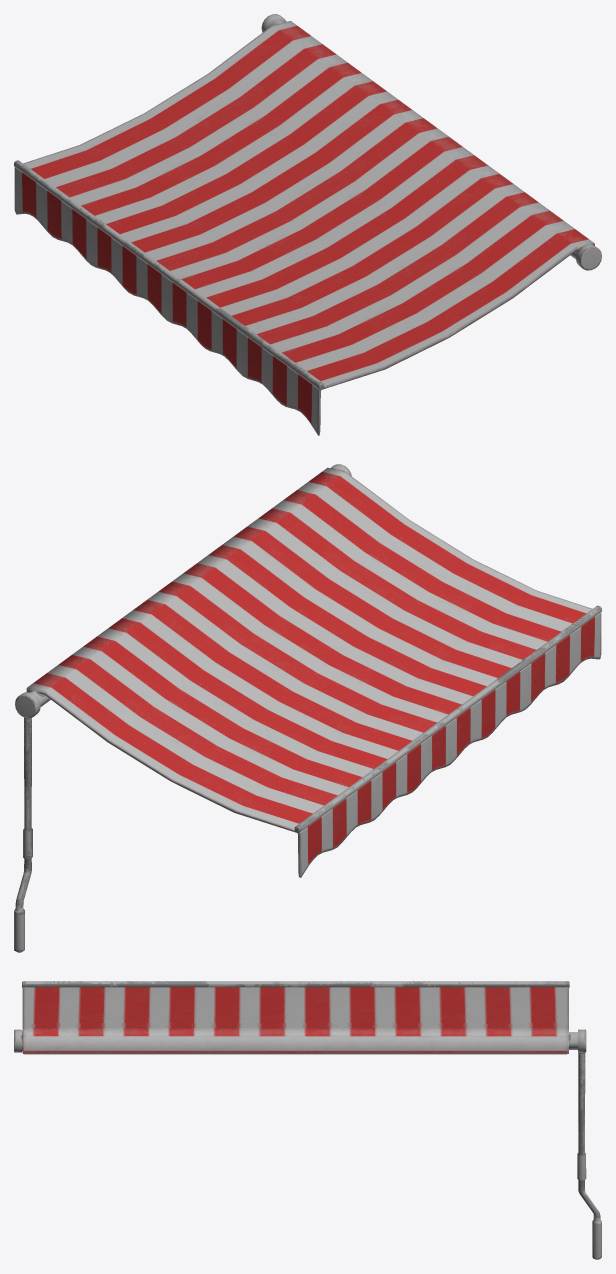
The model's file is SM_Shade1.fbx.
3 views of the same model, one above another, from view 1: azimuth 30°, elevation 25°; view 2: azimuth 150°, elevation 25°; view 3: azimuth 270°, elevation 25° (orthographic). The views are drawn at different scales.
Parts seen in each view (by area): view 1: SM_Shade1_LOD0; view 2: SM_Shade1_LOD0; view 3: SM_Shade1_LOD0.
Part boxes in pixels (x1,y1,x2,y2): SM_Shade1_LOD0: [14, 14, 601, 435]; SM_Shade1_LOD0: [14, 464, 601, 952]; SM_Shade1_LOD0: [14, 981, 601, 1259].
Bounding box in the file's own units: 251 × 510 × 218.
Materials: 1 (1 with a texture image).
